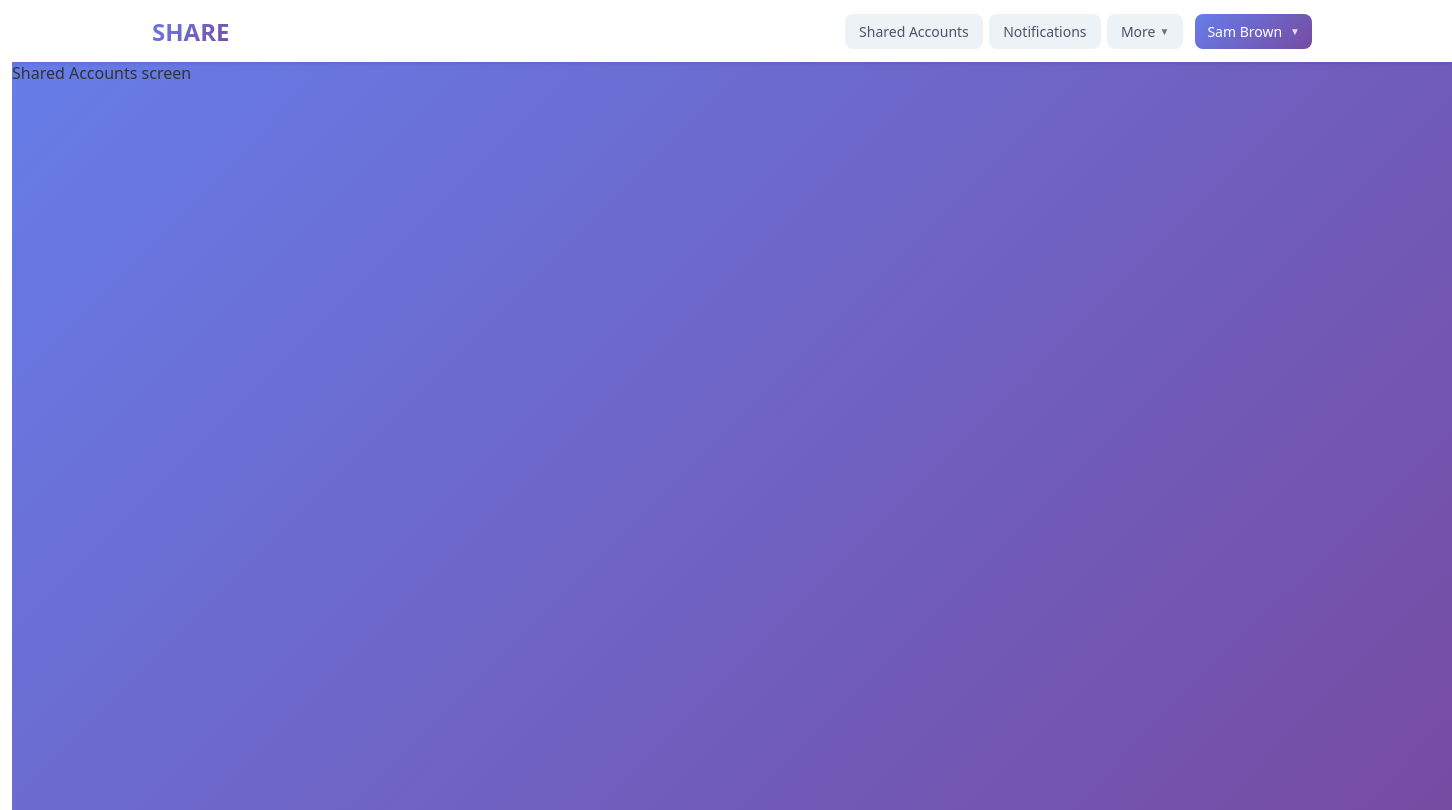
Test case: Navbar primary entry point › returns to Home when the SHARE logo is clicked
Expected: the text "Shared Accounts screen" is shown, [12,62,191,84]
Step 1. Click the link with aria-label "SHARE — Home" → (191, 31), box [152,15,229,48]
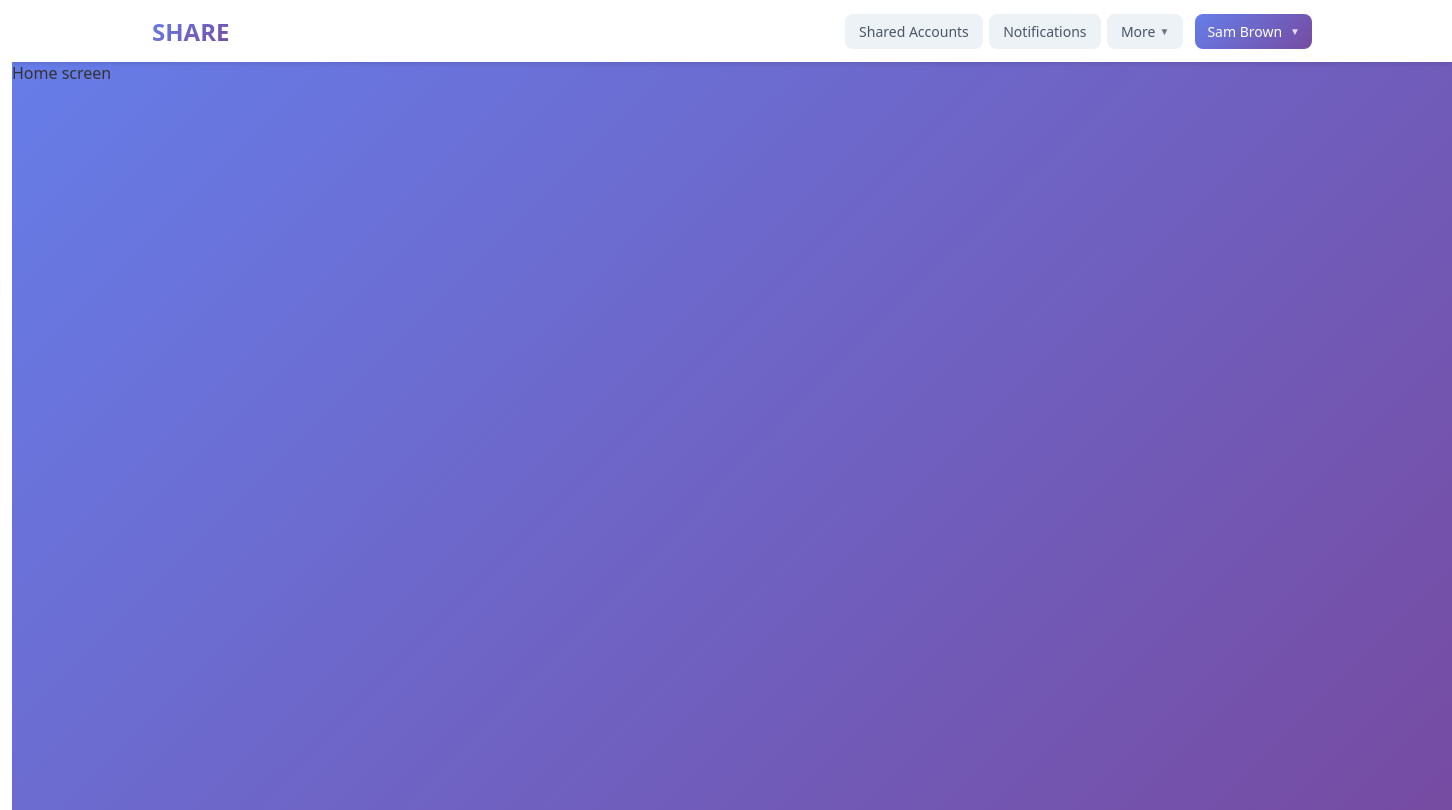
Now the text "Home screen" is shown, box [12,62,111,84]
Now the text "Shared Accounts screen" is gone
